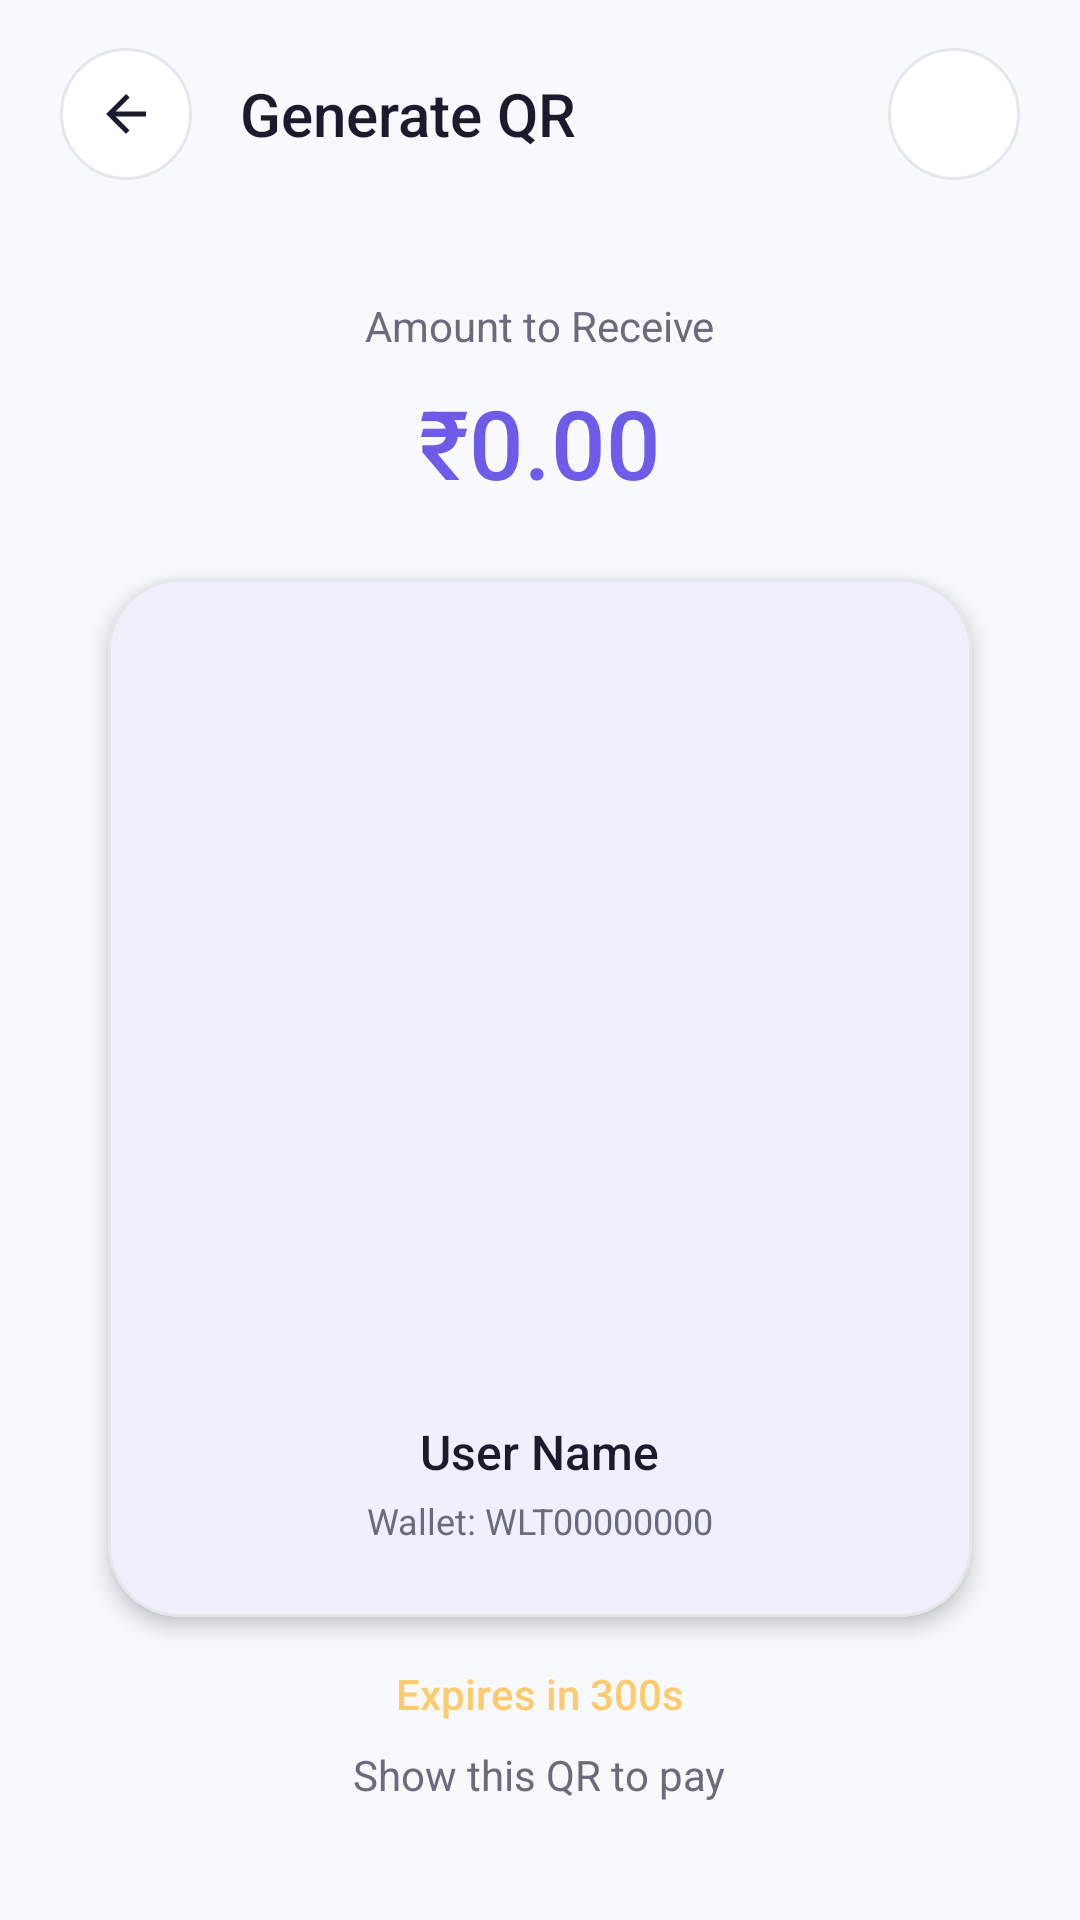

Screen size 1080x1920. Icon name, then its center in pixels as [x,y]:
arrow back: [126,114]
